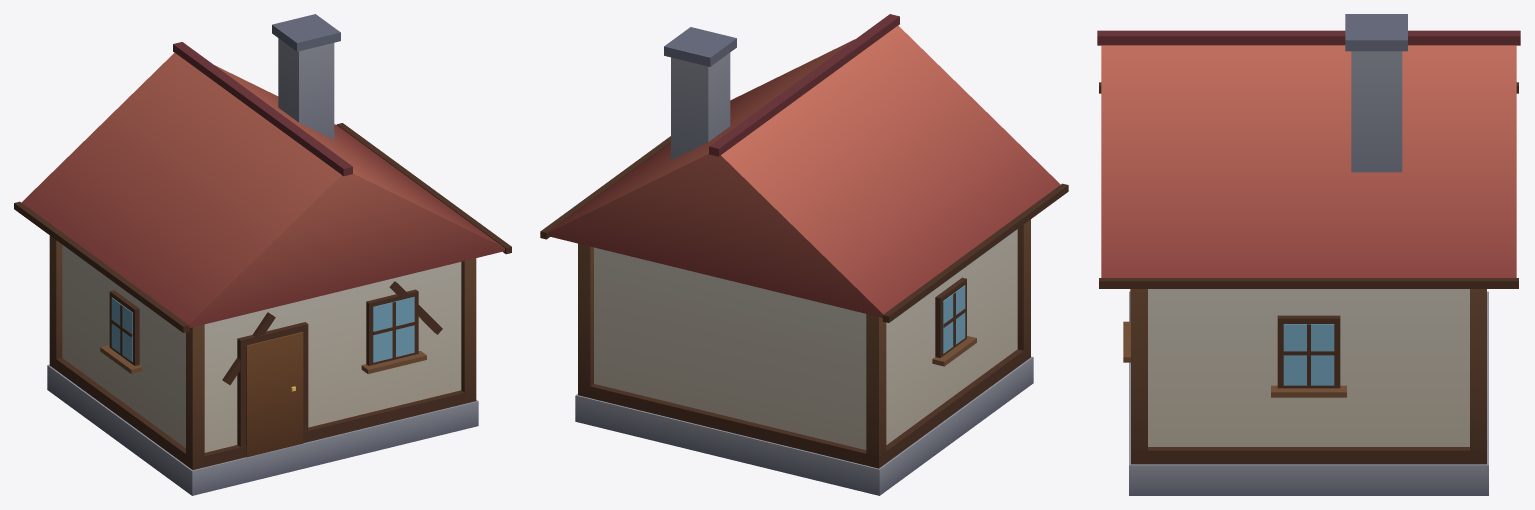
Rendered from house_cottage.glb.
The picture shows the model from 3 angles, left to right: view 1: azimuth 30°, elevation 25°; view 2: azimuth 150°, elevation 25°; view 3: azimuth 270°, elevation 25°; orthographic projection. The views are drawn at different scales.
Visible parts, largest first — view 1: house_cottage; view 2: house_cottage; view 3: house_cottage.
Boxes of the visible parts, x1=… form: house_cottage: x1=14, y1=14, x2=511, y2=495; house_cottage: x1=540, y1=14, x2=1068, y2=495; house_cottage: x1=1097, y1=14, x2=1520, y2=495.
Bounding box in the file's own units: 5.56 × 5.53 × 5.
